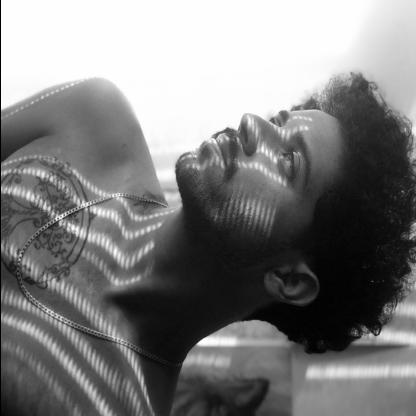Eye: (278, 149, 298, 181), (268, 116, 279, 130)
Mouth: (206, 134, 228, 172)
Nose: (236, 113, 283, 155)
